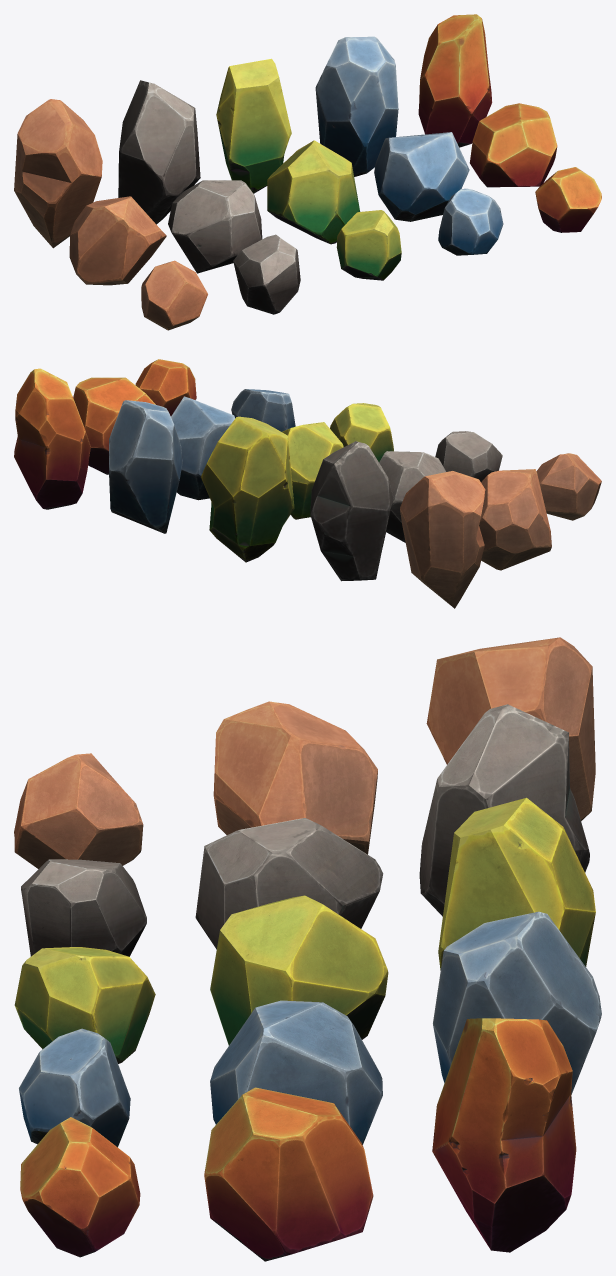
Rendered from Stylized_Rocks.gltf.
The picture shows the model from 3 angles, top to bottom: view 1: azimuth 30°, elevation 25°; view 2: azimuth 150°, elevation 25°; view 3: azimuth 270°, elevation 25°; orthographic projection. The views are drawn at different scales.
Visible parts, largest first — view 1: L_Rock_01, L_Rock_04, L_Rock_02, L_Rock_05, L_Rock_03, M_Rock_03, M_Rock_04, M_Rock_02, M_Rock_01, M_Rock_05, S_Rock_02, S_Rock_03 (+3 smaller); view 2: L_Rock_03, L_Rock_02, L_Rock_01, L_Rock_05, L_Rock_04, M_Rock_01, M_Rock_04, M_Rock_05, S_Rock_01, M_Rock_03, M_Rock_02, S_Rock_02 (+3 smaller); view 3: L_Rock_05, M_Rock_05, M_Rock_01, M_Rock_03, L_Rock_04, L_Rock_03, L_Rock_02, L_Rock_01, M_Rock_04, M_Rock_02, S_Rock_05, S_Rock_03 (+3 smaller).
Boxes of the visible parts, box(x1,y1,x2,y2) form: L_Rock_01: box(14, 99, 102, 248); L_Rock_04: box(315, 36, 398, 176); L_Rock_02: box(118, 80, 200, 224); L_Rock_05: box(418, 14, 492, 147); L_Rock_03: box(216, 58, 291, 193); M_Rock_03: box(267, 140, 360, 244); M_Rock_04: box(374, 132, 469, 221); M_Rock_02: box(168, 180, 262, 273); M_Rock_01: box(69, 196, 166, 285); M_Rock_05: box(469, 103, 557, 187); S_Rock_02: box(233, 234, 300, 314); S_Rock_03: box(336, 210, 401, 280); L_Rock_03: box(201, 416, 294, 562); L_Rock_02: box(310, 441, 393, 581); L_Rock_01: box(400, 471, 485, 608); L_Rock_05: box(14, 368, 90, 509); L_Rock_04: box(109, 400, 182, 533); M_Rock_01: box(479, 469, 551, 570); M_Rock_04: box(171, 396, 234, 500); M_Rock_05: box(73, 377, 155, 474); S_Rock_01: box(536, 453, 601, 520); M_Rock_03: box(282, 422, 343, 519); M_Rock_02: box(379, 451, 445, 542); S_Rock_02: box(435, 431, 502, 481); L_Rock_05: box(432, 1018, 576, 1252); M_Rock_05: box(204, 1087, 373, 1261); M_Rock_01: box(213, 701, 377, 854); M_Rock_03: box(210, 895, 388, 1045); L_Rock_04: box(433, 911, 601, 1094); L_Rock_03: box(438, 797, 595, 970); L_Rock_02: box(419, 704, 589, 916); L_Rock_01: box(426, 637, 595, 820); M_Rock_04: box(210, 1000, 382, 1144); M_Rock_02: box(195, 818, 383, 949); S_Rock_05: box(20, 1117, 140, 1257); S_Rock_03: box(14, 947, 155, 1063).
Bounding box in the file's own units: 9.56 × 2.73 × 5.43.
